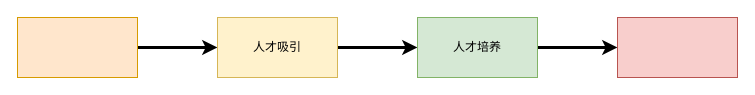
This 755x95 diagram has some shape labels left out. Here are the shapes that lost their labels. From the top down, the box of each, then its label:
(16, 16, 138, 78): 人员盘点
(616, 16, 738, 78): 人员汰换
